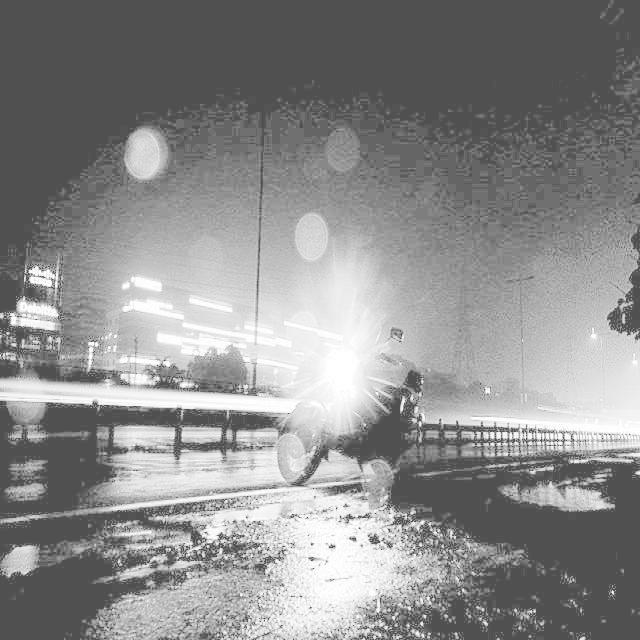Motorcycle: (274, 319, 440, 498)
